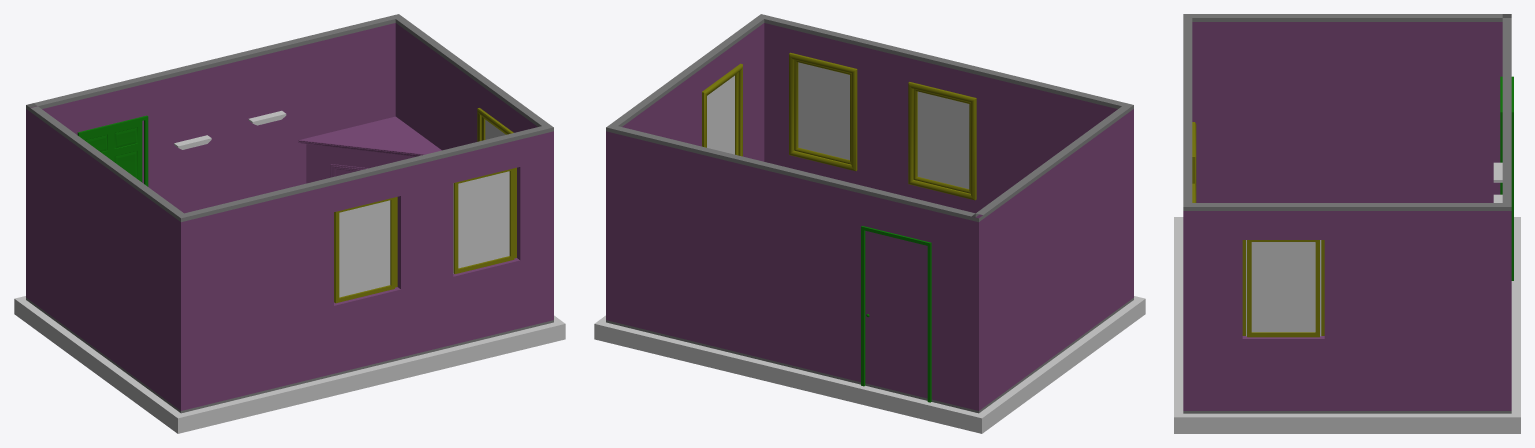
File: FloorPlan226.fbx
The picture shows the model from 3 angles, left to right: view 1: azimuth 30°, elevation 25°; view 2: azimuth 150°, elevation 25°; view 3: azimuth 270°, elevation 25°; orthographic projection. The views are drawn at different scales.
Parts seen in each view (by area): view 1: StandardWallSize, Floor, WindowGlass, Corner, StandardDoor1, StandardWindow1, StandardWindow1 (2), StandardDoorFrame1, Shelves; view 2: StandardWallSize, Floor, WindowGlass, WindowTreatment2, WindowTreatment2 (2), StandardDoorFrame1, StandardWindow1, StandardWindow1 (2), WindowTreatment2 (4); view 3: StandardWallSize, Floor, WindowGlass, StandardWindow1 (4), StandardDoorFrame1, WindowTreatment2 (4).
Boxes of the visible parts, x1,y1,x2,y2 form: StandardWallSize: (26,14,553,413); Floor: (14,296,565,433); WindowGlass: (339,120,509,297); Corner: (298,116,441,183); StandardDoor1: (82,121,142,182); StandardWindow1: (453,168,514,273); StandardWindow1 (2): (334,197,394,303); StandardDoorFrame1: (77,115,148,186); Shelves: (174,110,286,149); StandardWallSize: (606,14,1133,413); Floor: (594,296,1145,433); WindowGlass: (707,62,969,188); WindowTreatment2: (789,52,857,171); WindowTreatment2 (2): (908,82,976,200); StandardDoorFrame1: (861,226,931,402); StandardWindow1: (794,59,851,164); StandardWindow1 (2): (913,89,970,193); WindowTreatment2 (4): (702,63,742,156); StandardWallSize: (1183,14,1511,413); Floor: (1174,217,1520,433); WindowGlass: (1246,240,1321,336); StandardWindow1 (4): (1247,240,1319,337); StandardDoorFrame1: (1500,76,1513,280); WindowTreatment2 (4): (1242,240,1324,335).
Bounding box in the file's own units: 520 × 270 × 380.
